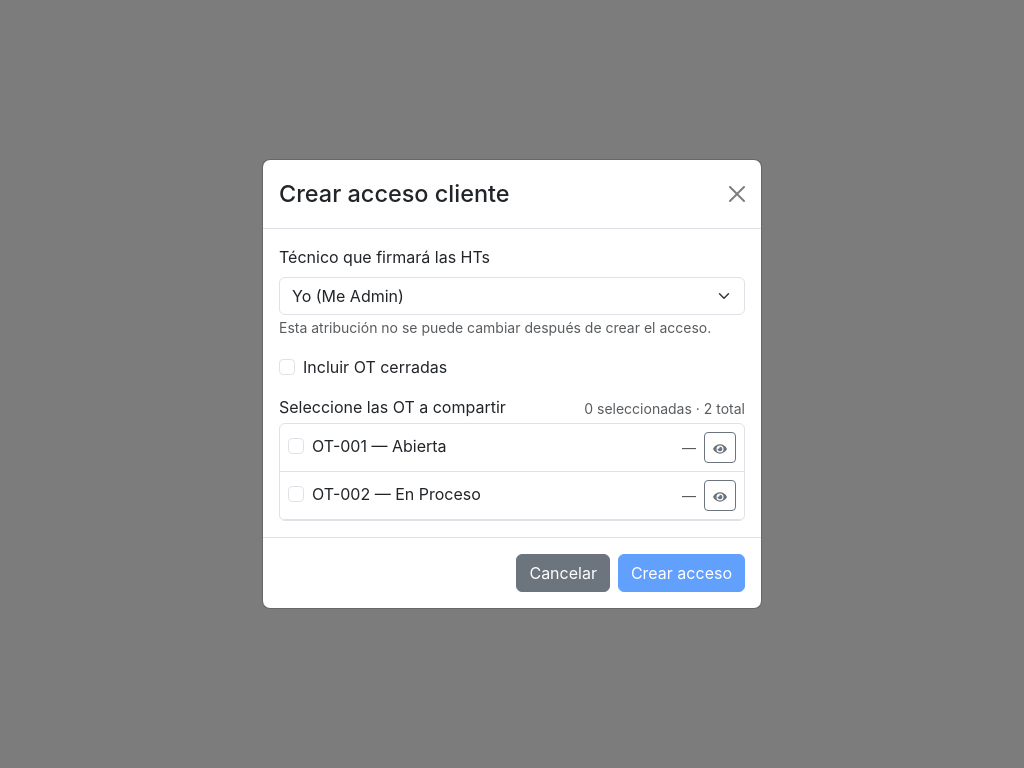
Test: CreateTokenModal › submits the selected OTs without attributionUserId when using the default (Yo)
Click the checkbox labelled "OT-001 — Abierta": (296, 446) [288, 438, 304, 454]
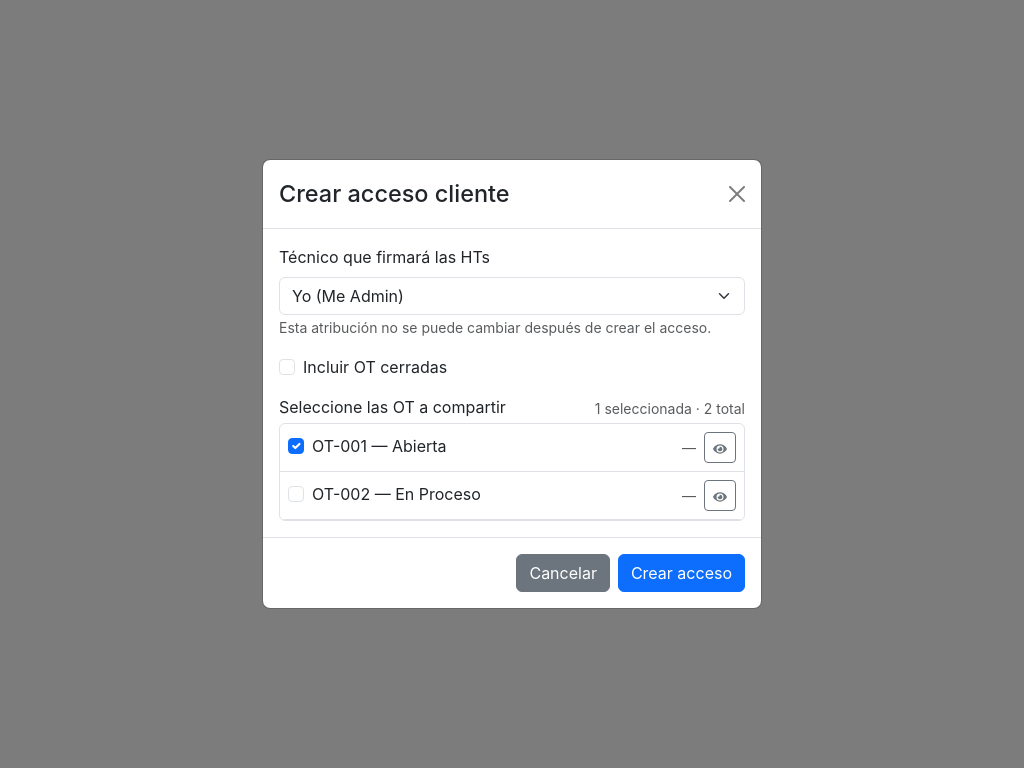
Check: the button "Crear acceso" is enabled
Click the button "Crear acceso": (681, 573) [618, 554, 745, 592]
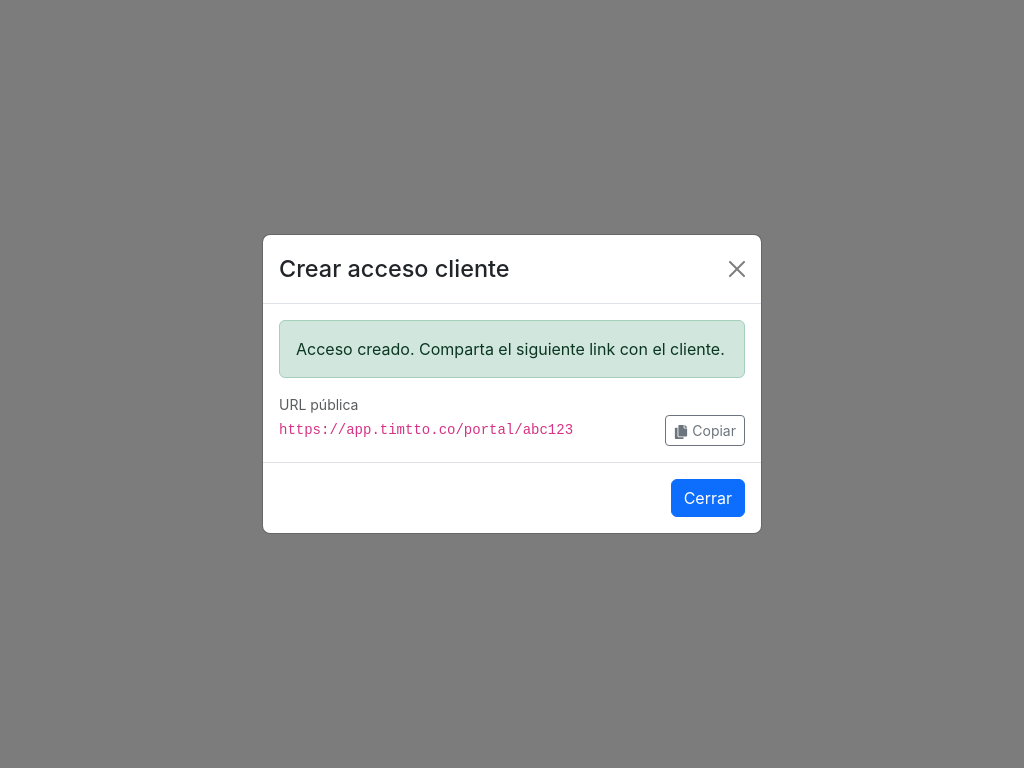
Check: the text "https://app.timtto.co/portal/abc123" is shown, box [279, 422, 573, 438]
